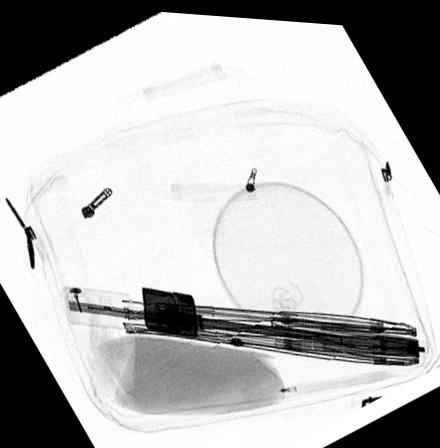Lighter: (140, 285, 197, 335)
